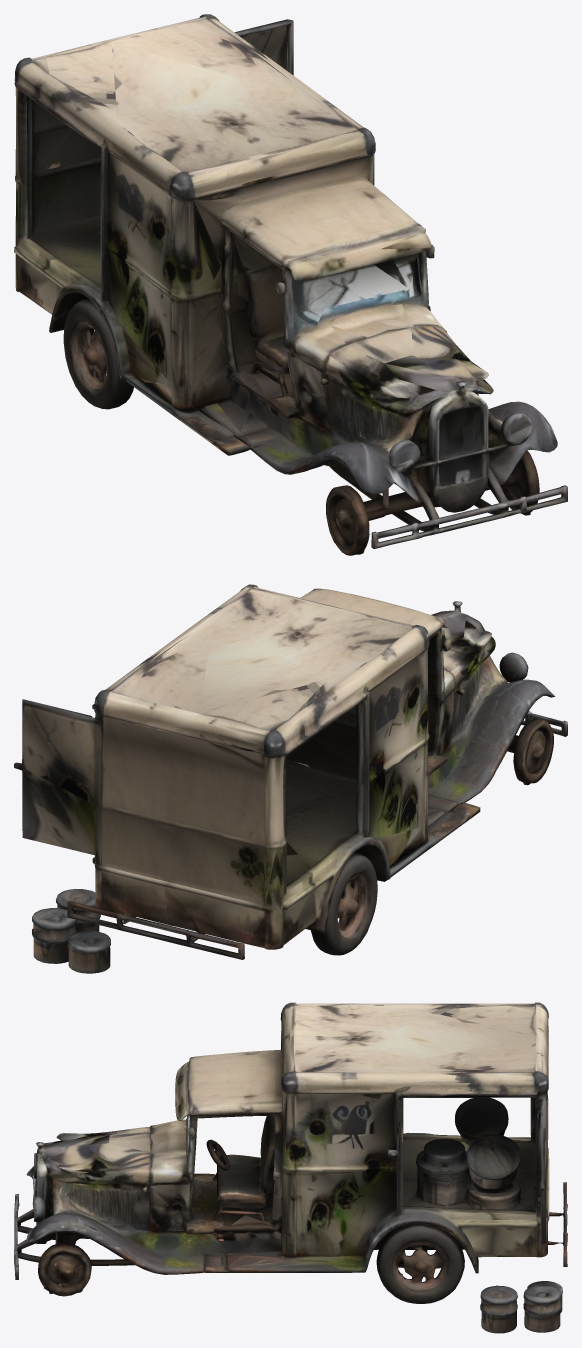
The model's file is wreck-newsreel-truck.glb.
3 renders of one model, top to bottom at view 1: azimuth 30°, elevation 25°; view 2: azimuth 150°, elevation 25°; view 3: azimuth 270°, elevation 25°, orthographic. The views are drawn at different scales.
Visible parts, largest first — view 1: model; view 2: model; view 3: model.
Boxes of the visible parts, x1,y1,x2,y2 form: model: (14,14,567,555); model: (14,584,567,973); model: (14,1002,567,1333).
Bounding box in the file's own units: 2.64 × 2.55 × 5.5.
Materials: 1 (1 with a texture image).
